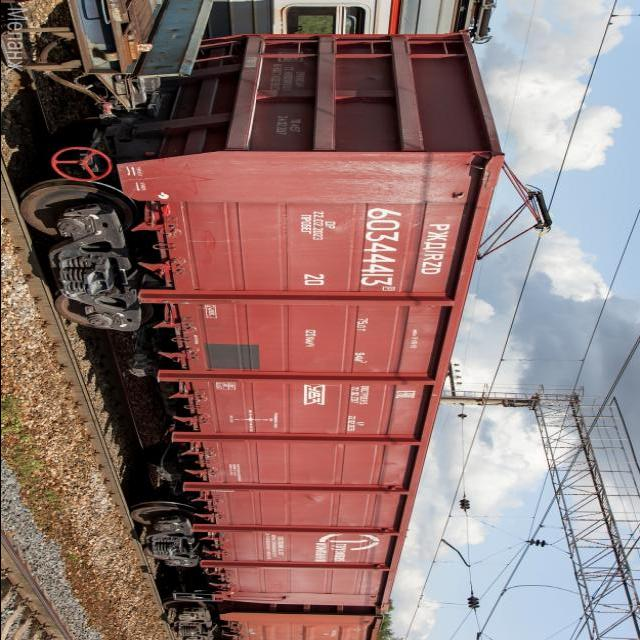wagon: (356, 205, 403, 288)
